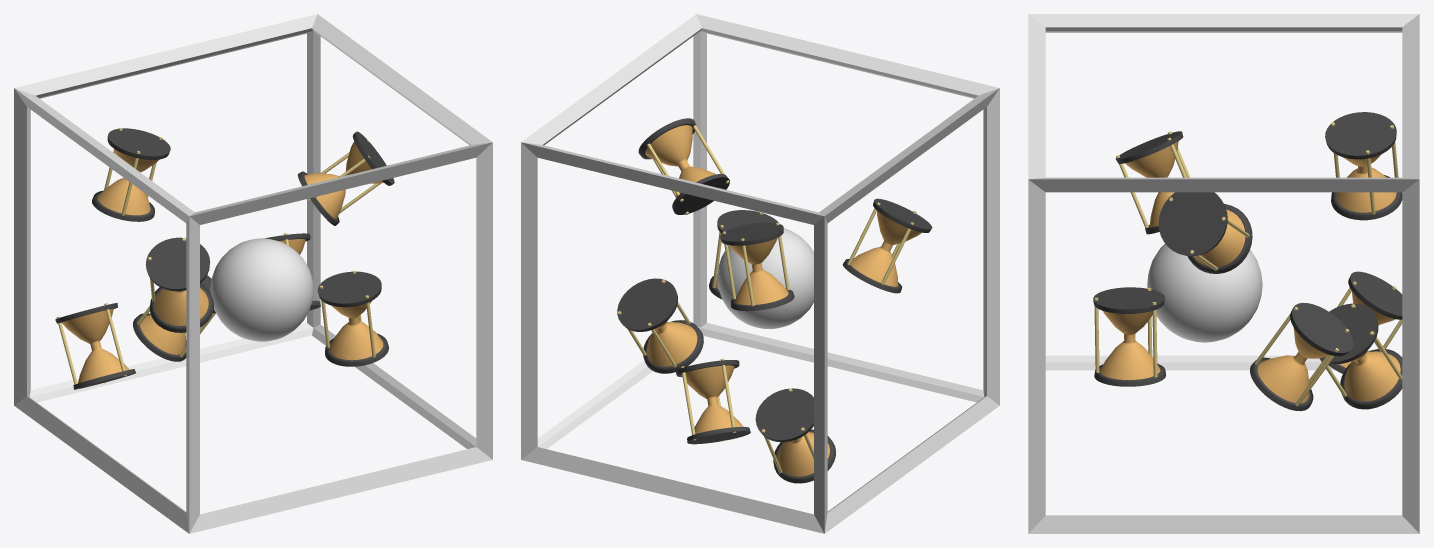
The model's file is Slow.fbx.
3 views of the same model, side by side, from view 1: azimuth 30°, elevation 25°; view 2: azimuth 150°, elevation 25°; view 3: azimuth 270°, elevation 25° (orthographic). The views are drawn at different scales.
Parts seen in each view (by area): view 1: Rahmen3.002, Sphere, Sanduhr.005, Sanduhr.004, Sanduhr.003, Sanduhr.001, Sanduhr.006, Sanduhr.002; view 2: Rahmen3.002, Sanduhr, Sphere, Sanduhr.001, Sanduhr.003, Sanduhr.004, Sanduhr.006, Sanduhr.002, Sanduhr.005; view 3: Rahmen3.002, Sphere, Sanduhr.006, Sanduhr, Sanduhr.005, Sanduhr.003, Sanduhr.002, Sanduhr.004, Sanduhr.001.
Part boxes in pixels (x1,y1,x2,y2): Rahmen3.002: (14,14,492,533); Sphere: (210,238,313,341); Sanduhr.005: (317,270,388,366); Sanduhr.004: (145,237,213,332); Sanduhr.003: (92,128,170,221); Sanduhr.001: (55,303,135,389); Sanduhr.006: (297,131,394,225); Sanduhr.002: (133,275,215,361); Rahmen3.002: (521,14,999,533); Sanduhr: (617,278,703,373); Sphere: (717,228,813,329); Sanduhr.001: (755,388,835,483); Sanduhr.003: (720,222,794,311); Sanduhr.004: (842,198,932,293); Sanduhr.006: (638,118,729,214); Sanduhr.002: (675,358,750,444); Sanduhr.005: (709,210,778,299); Rahmen3.002: (1028,14,1419,533); Sphere: (1147,243,1262,342); Sanduhr.006: (1158,192,1252,273); Sanduhr: (1250,302,1353,411); Sanduhr.005: (1093,287,1165,386); Sanduhr.003: (1325,112,1402,220); Sanduhr.002: (1319,303,1402,409); Sanduhr.004: (1115,131,1190,234); Sanduhr.001: (1328,271,1402,373).
Bounding box in the file's own units: 515 × 515 × 515.
